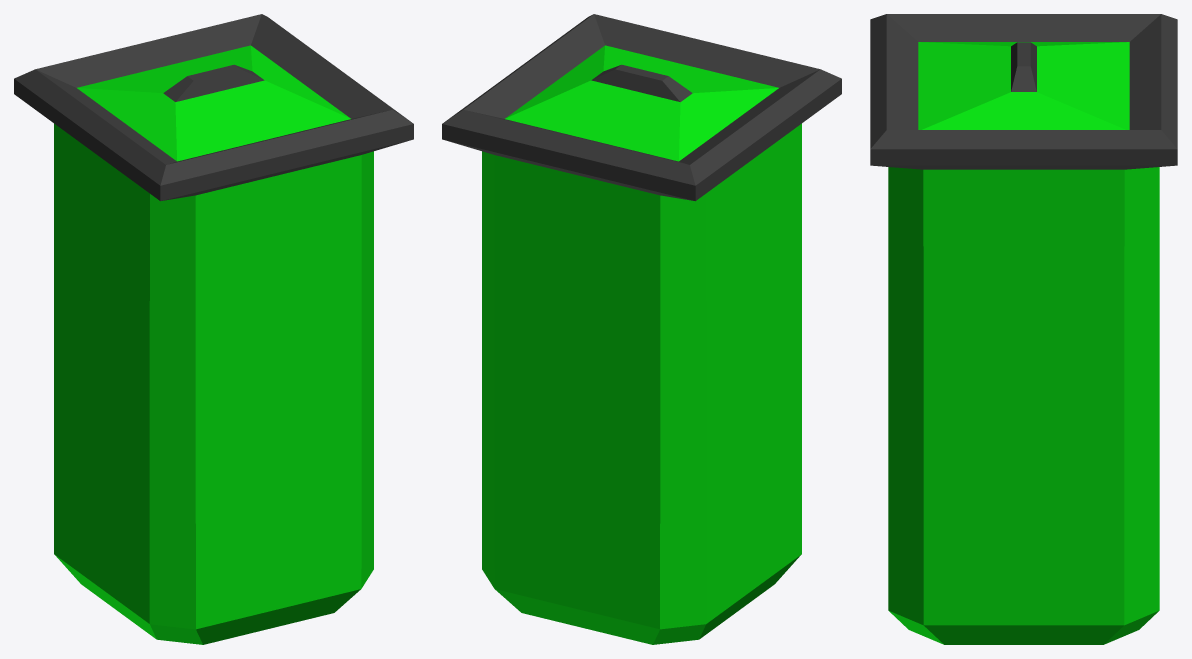
Rendered from TrashBin.fbx.
The picture shows the model from 3 angles, left to right: view 1: azimuth 30°, elevation 25°; view 2: azimuth 150°, elevation 25°; view 3: azimuth 270°, elevation 25°; orthographic projection. The views are drawn at different scales.
Parts seen in each view (by area): view 1: TrashBinMain, TrashBinDoor; view 2: TrashBinMain, TrashBinDoor; view 3: TrashBinMain, TrashBinDoor.
Part boxes in pixels (left/top/right/bottom): TrashBinMain: left=14, top=14, right=413, bottom=644; TrashBinDoor: left=77, top=45, right=350, bottom=161; TrashBinMain: left=442, top=14, right=841, bottom=644; TrashBinDoor: left=505, top=45, right=778, bottom=161; TrashBinMain: left=870, top=14, right=1177, bottom=644; TrashBinDoor: left=918, top=42, right=1129, bottom=129.
Size of the model in its own units: 1.13 by 1.13 by 2.28.
